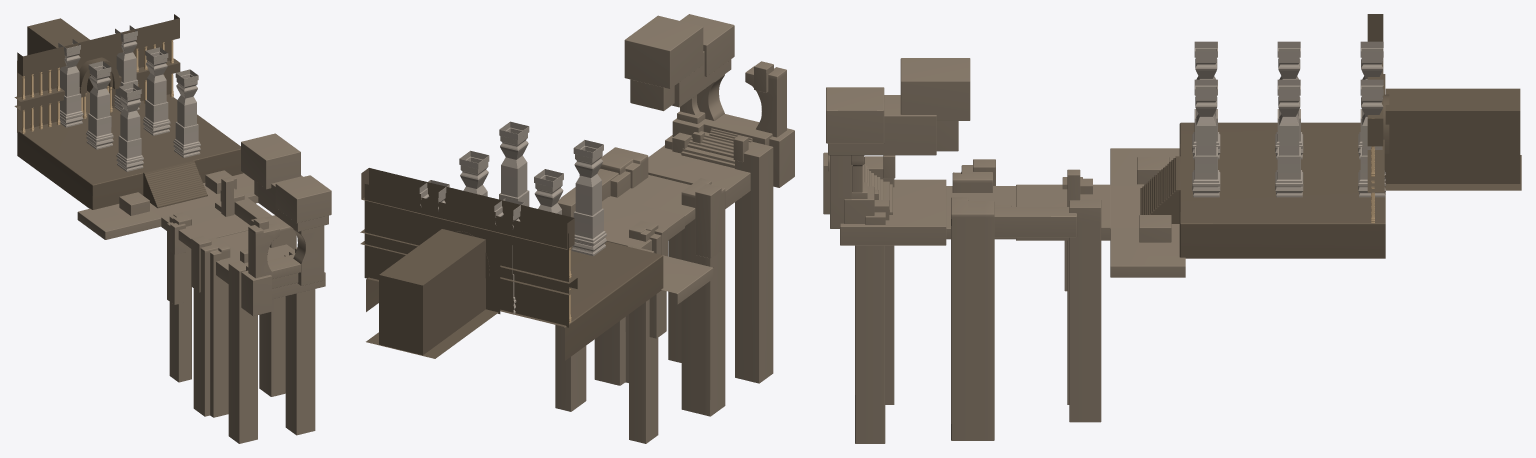
File: RealisticTempleModel.fbx
The picture shows the model from 3 angles, left to right: view 1: azimuth 30°, elevation 25°; view 2: azimuth 150°, elevation 25°; view 3: azimuth 270°, elevation 25°; orthographic projection. The views are drawn at different scales.
Visible parts, largest first — view 1: BridgeColumns, Floor, Big_Columns, BridgeFloor, BridgePortalHolder, Wall, Small_Columns; view 2: BridgeColumns, Wall, BridgeFloor, BridgePortalHolder, Floor, Big_Columns; view 3: BridgeColumns, Floor, BridgeFloor, Wall, BridgePortalHolder, Big_Columns.
Part boxes in pixels (x1,y1,x2,y2): BridgeColumns: [167, 177, 315, 443]; Floor: [17, 91, 243, 209]; Big_Columns: [58, 25, 200, 171]; BridgeFloor: [77, 170, 325, 316]; BridgePortalHolder: [241, 133, 331, 285]; Wall: [14, 14, 180, 132]; Small_Columns: [21, 40, 173, 133]; BridgeColumns: [555, 111, 773, 443]; Wall: [360, 168, 577, 355]; BridgeFloor: [602, 114, 794, 304]; BridgePortalHolder: [624, 14, 786, 137]; Floor: [366, 241, 663, 360]; Big_Columns: [419, 121, 606, 313]; BridgeColumns: [844, 155, 1101, 443]; Floor: [1140, 122, 1521, 258]; BridgeFloor: [823, 148, 1185, 277]; Wall: [1367, 14, 1520, 192]; BridgePortalHolder: [826, 58, 970, 228]; Big_Columns: [1192, 41, 1385, 197].
Bounding box in the file's own units: 40.47 × 58.15 × 101.
